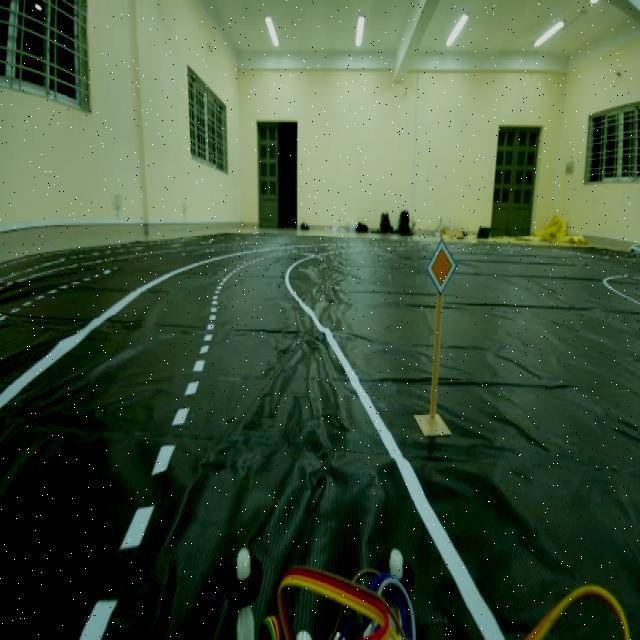priority: (418, 233, 459, 299)
